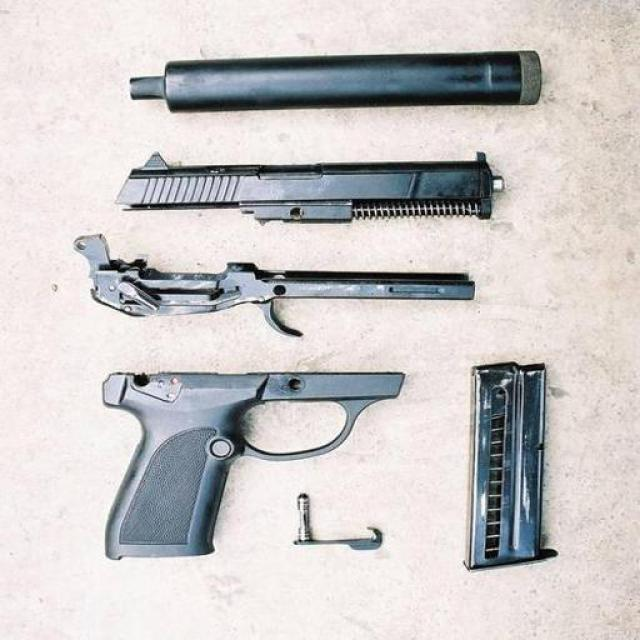pistol: (104, 272, 473, 562)
